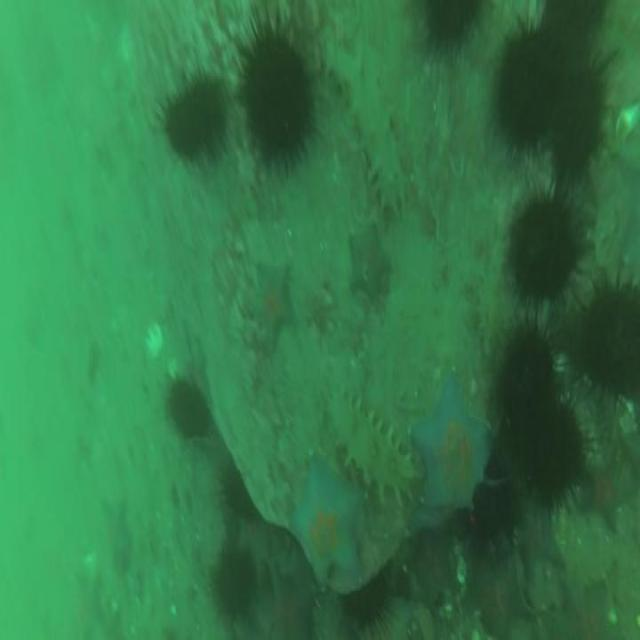echinus: (230, 7, 316, 175), (502, 186, 586, 312), (548, 52, 620, 194), (515, 392, 589, 528), (495, 11, 561, 161), (575, 278, 640, 419), (495, 318, 561, 442), (157, 66, 226, 174), (418, 0, 490, 65), (336, 564, 395, 639), (210, 542, 258, 624), (161, 375, 214, 447), (539, 0, 613, 51), (217, 457, 260, 523)
holothurian: (322, 39, 407, 228), (323, 387, 418, 512), (473, 215, 510, 367)
starfish: (414, 376, 495, 517), (282, 461, 368, 591), (247, 259, 298, 354), (346, 220, 390, 302)
